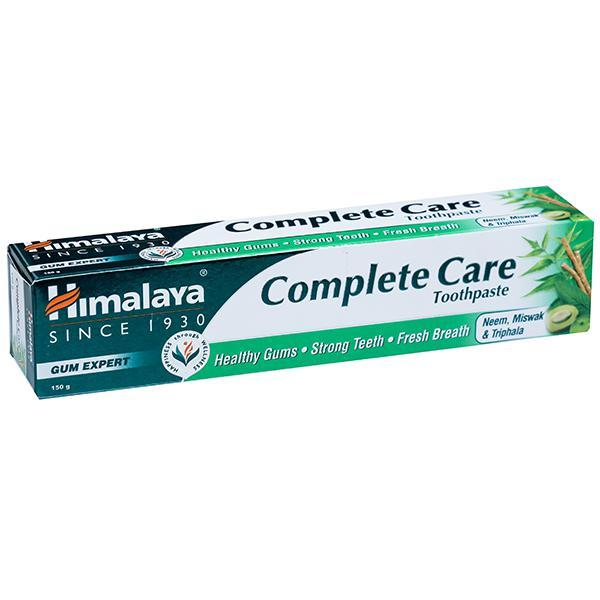toothpaste: (6, 167, 600, 380)
